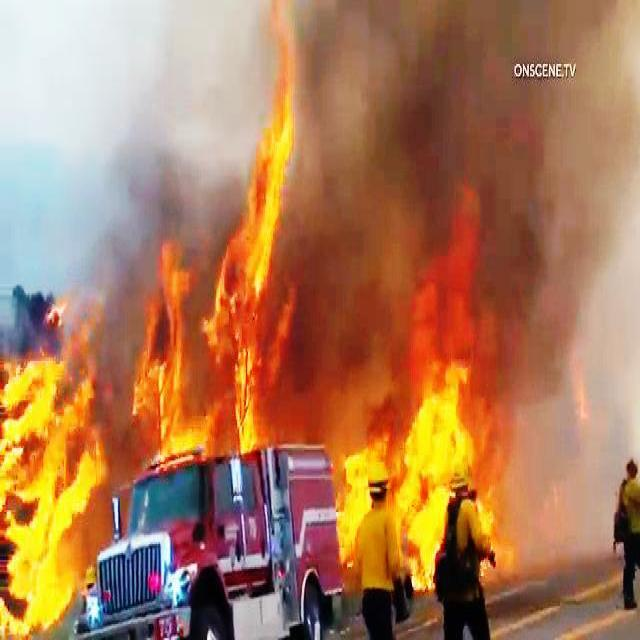Fire: (338, 372, 492, 600), (215, 76, 300, 450), (0, 328, 100, 638), (128, 254, 208, 453)
Smoke: (296, 0, 640, 392)
